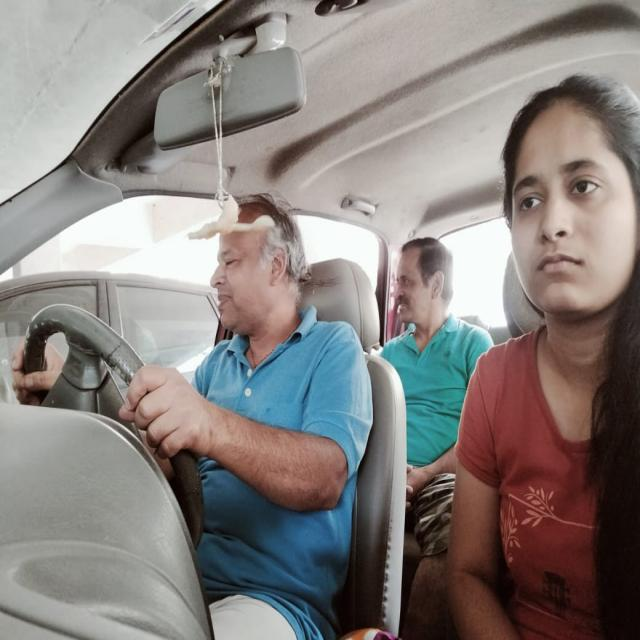person: (497, 71, 640, 326), (205, 199, 313, 333), (389, 232, 453, 334)
